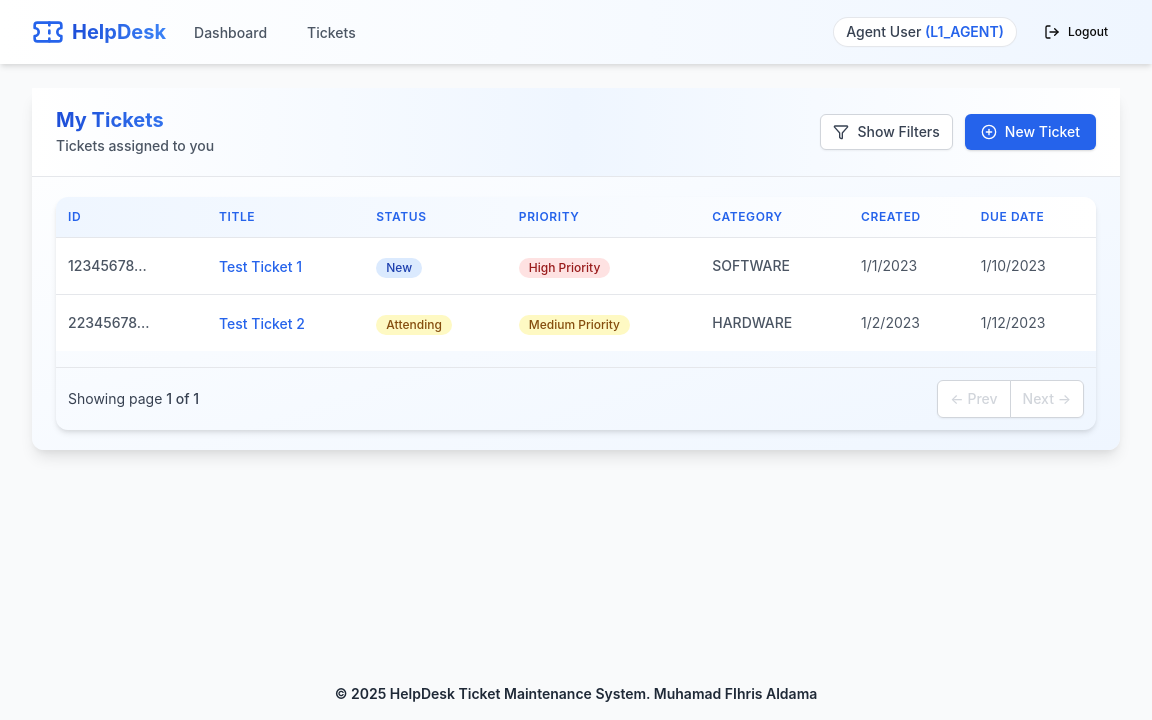
Test: TicketList › toggles filter visibility when filter button is clicked
The image size is (1152, 720).
// Click to show filters
Click the button "Show Filters".
click(887, 132)  # box [820, 114, 953, 150]
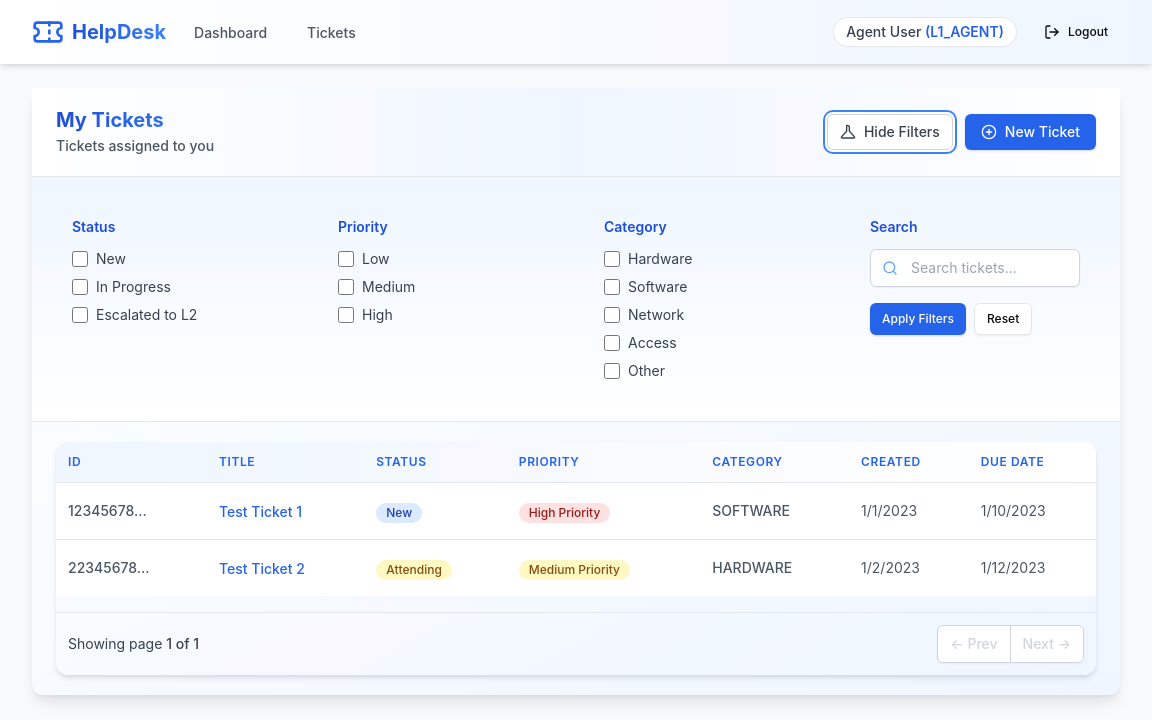
Expected: the button "Hide Filters" is shown
// Click to hide filters
Click the button "Hide Filters".
click(890, 132)  # box [827, 114, 953, 150]
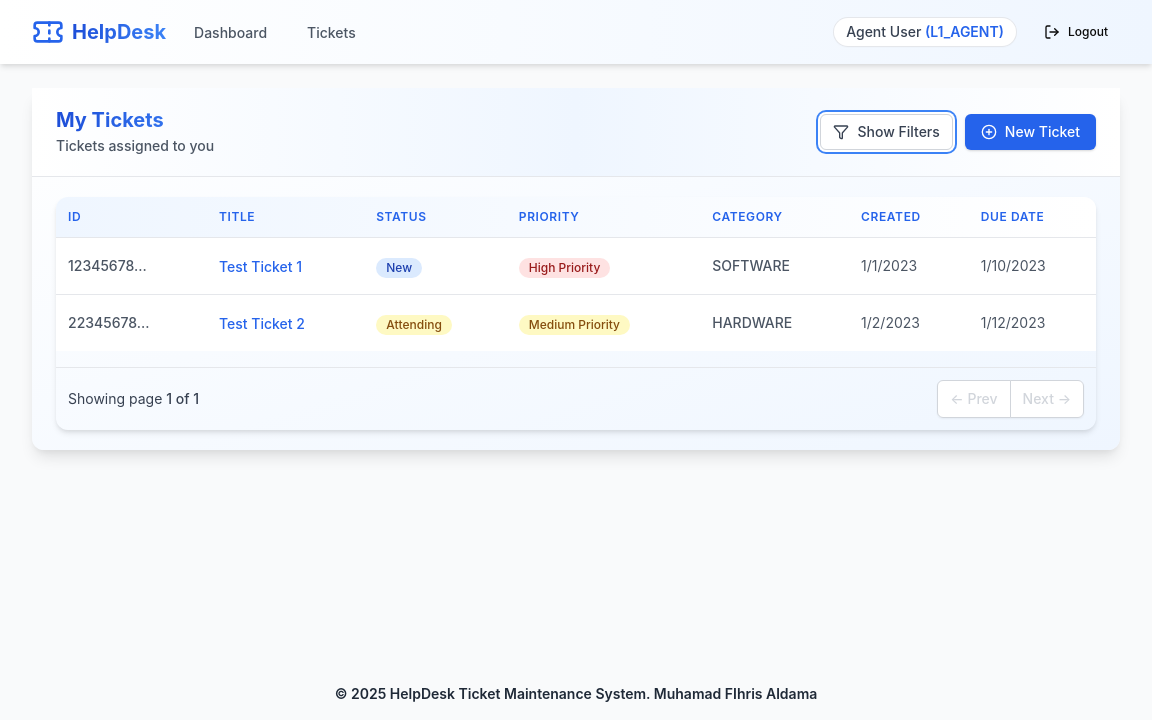
Expected: the button "Show Filters" is shown, [820, 114, 953, 150]
